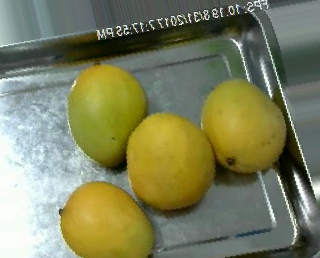Mango: (123, 113, 217, 211), (200, 77, 290, 174), (70, 63, 149, 168), (57, 180, 154, 257)
